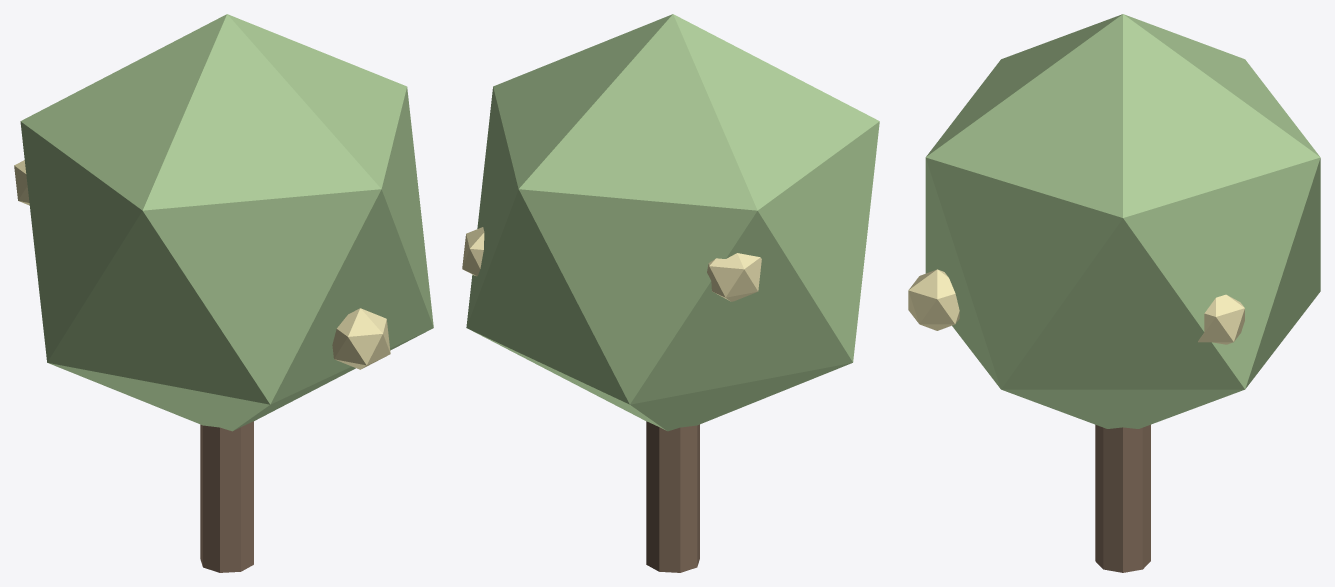
File: pear_tree.glb
3 renders of one model, left to right at view 1: azimuth 30°, elevation 25°; view 2: azimuth 150°, elevation 25°; view 3: azimuth 270°, elevation 25°, orthographic.
Visible parts, largest first — view 1: pear_tree; view 2: pear_tree; view 3: pear_tree.
Boxes of the visible parts, <box> form: pear_tree: <box>14,14,433,572</box>; pear_tree: <box>462,14,879,572</box>; pear_tree: <box>908,14,1320,572</box>.
Bounding box in the file's own units: 2.68 × 3.9 × 2.66.
